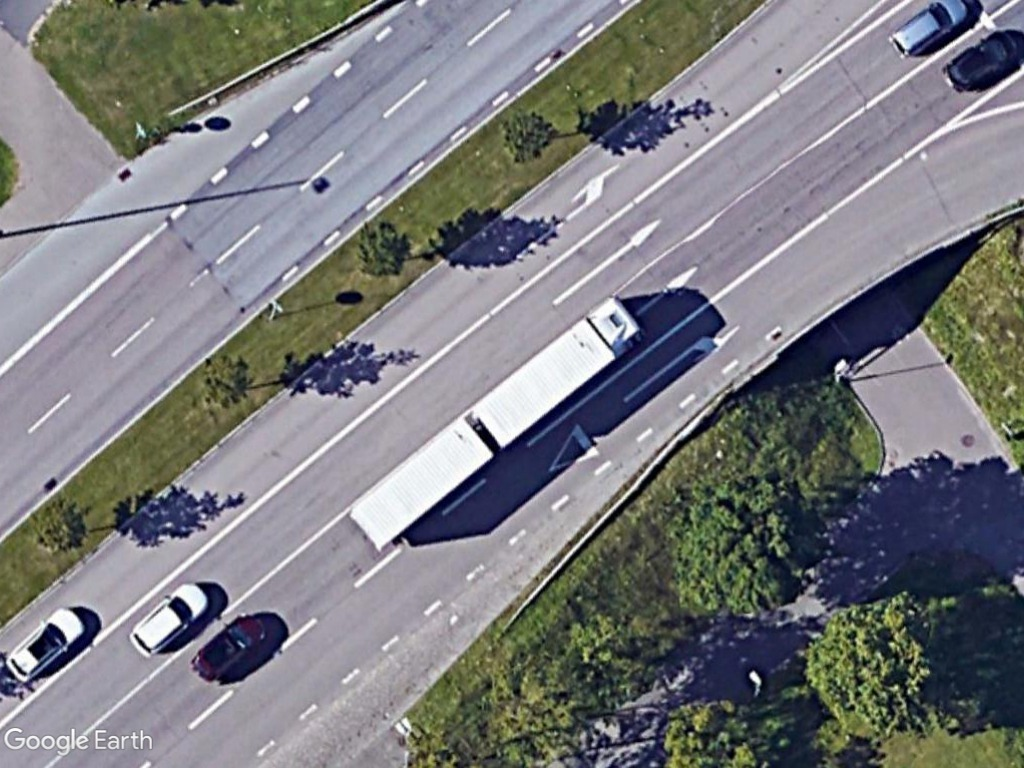car: (4, 605, 95, 685), (128, 578, 214, 661), (941, 24, 1021, 94), (886, 0, 973, 63)
truck: (470, 291, 647, 451)
